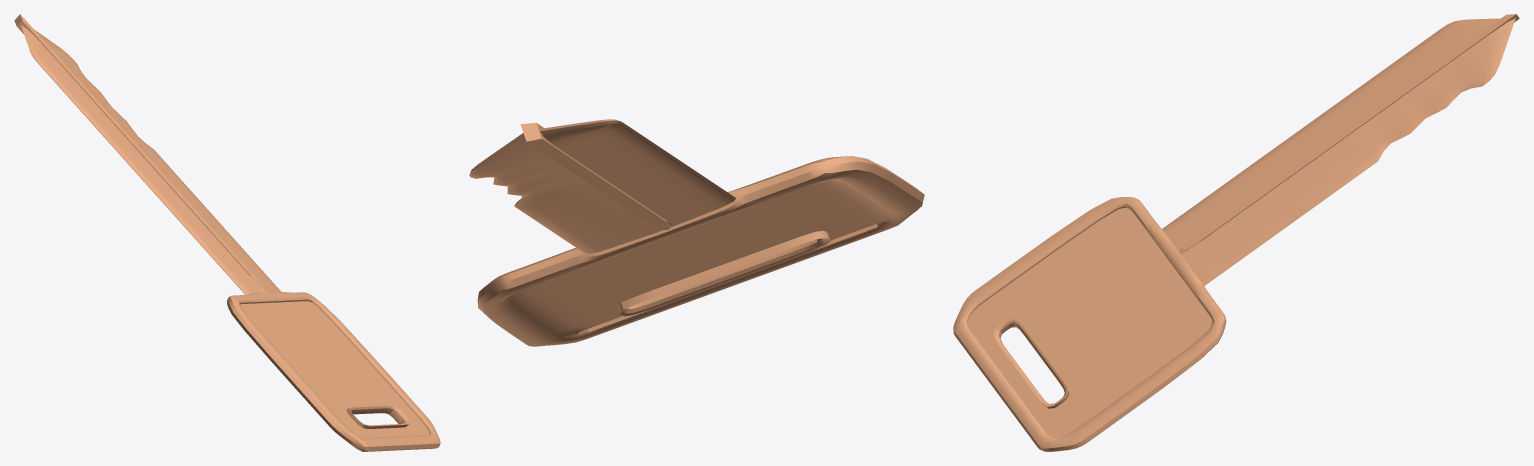
3 views of the same model, side by side, from view 1: azimuth 30°, elevation 25°; view 2: azimuth 150°, elevation 25°; view 3: azimuth 270°, elevation 25° (orthographic). The views are drawn at different scales.
Parts seen in each view (by area): view 1: Key 1.001; view 2: Key 1.001; view 3: Key 1.001.
Boxes of the visible parts, x1,y1,x2,y2 form: Key 1.001: [14, 14, 440, 451]; Key 1.001: [469, 119, 924, 346]; Key 1.001: [953, 14, 1519, 451].
Bounding box in the file's own units: 0.2387 × 0.3282 × 0.5.
